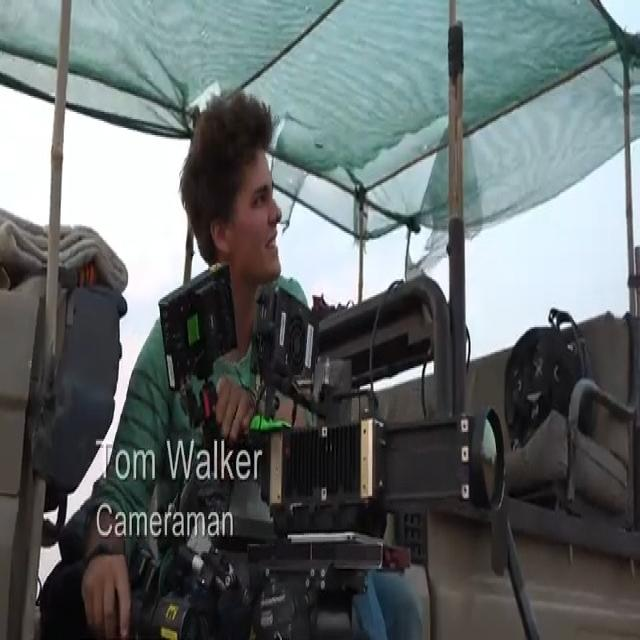device: (158, 282, 513, 640)
human: (176, 71, 302, 283)
